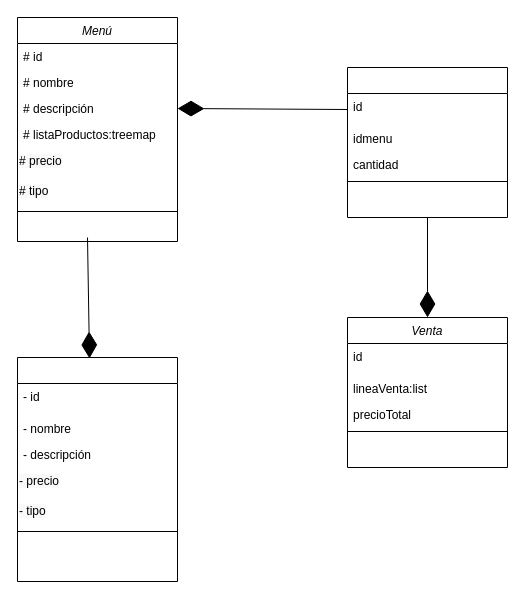
This 525x599 diagram has some shape labels left out. Here are the shapes that lost their labels. From the top down, the box of each, then its label:
(346, 66, 508, 218): LineaVenta
(16, 356, 178, 582): Productos
